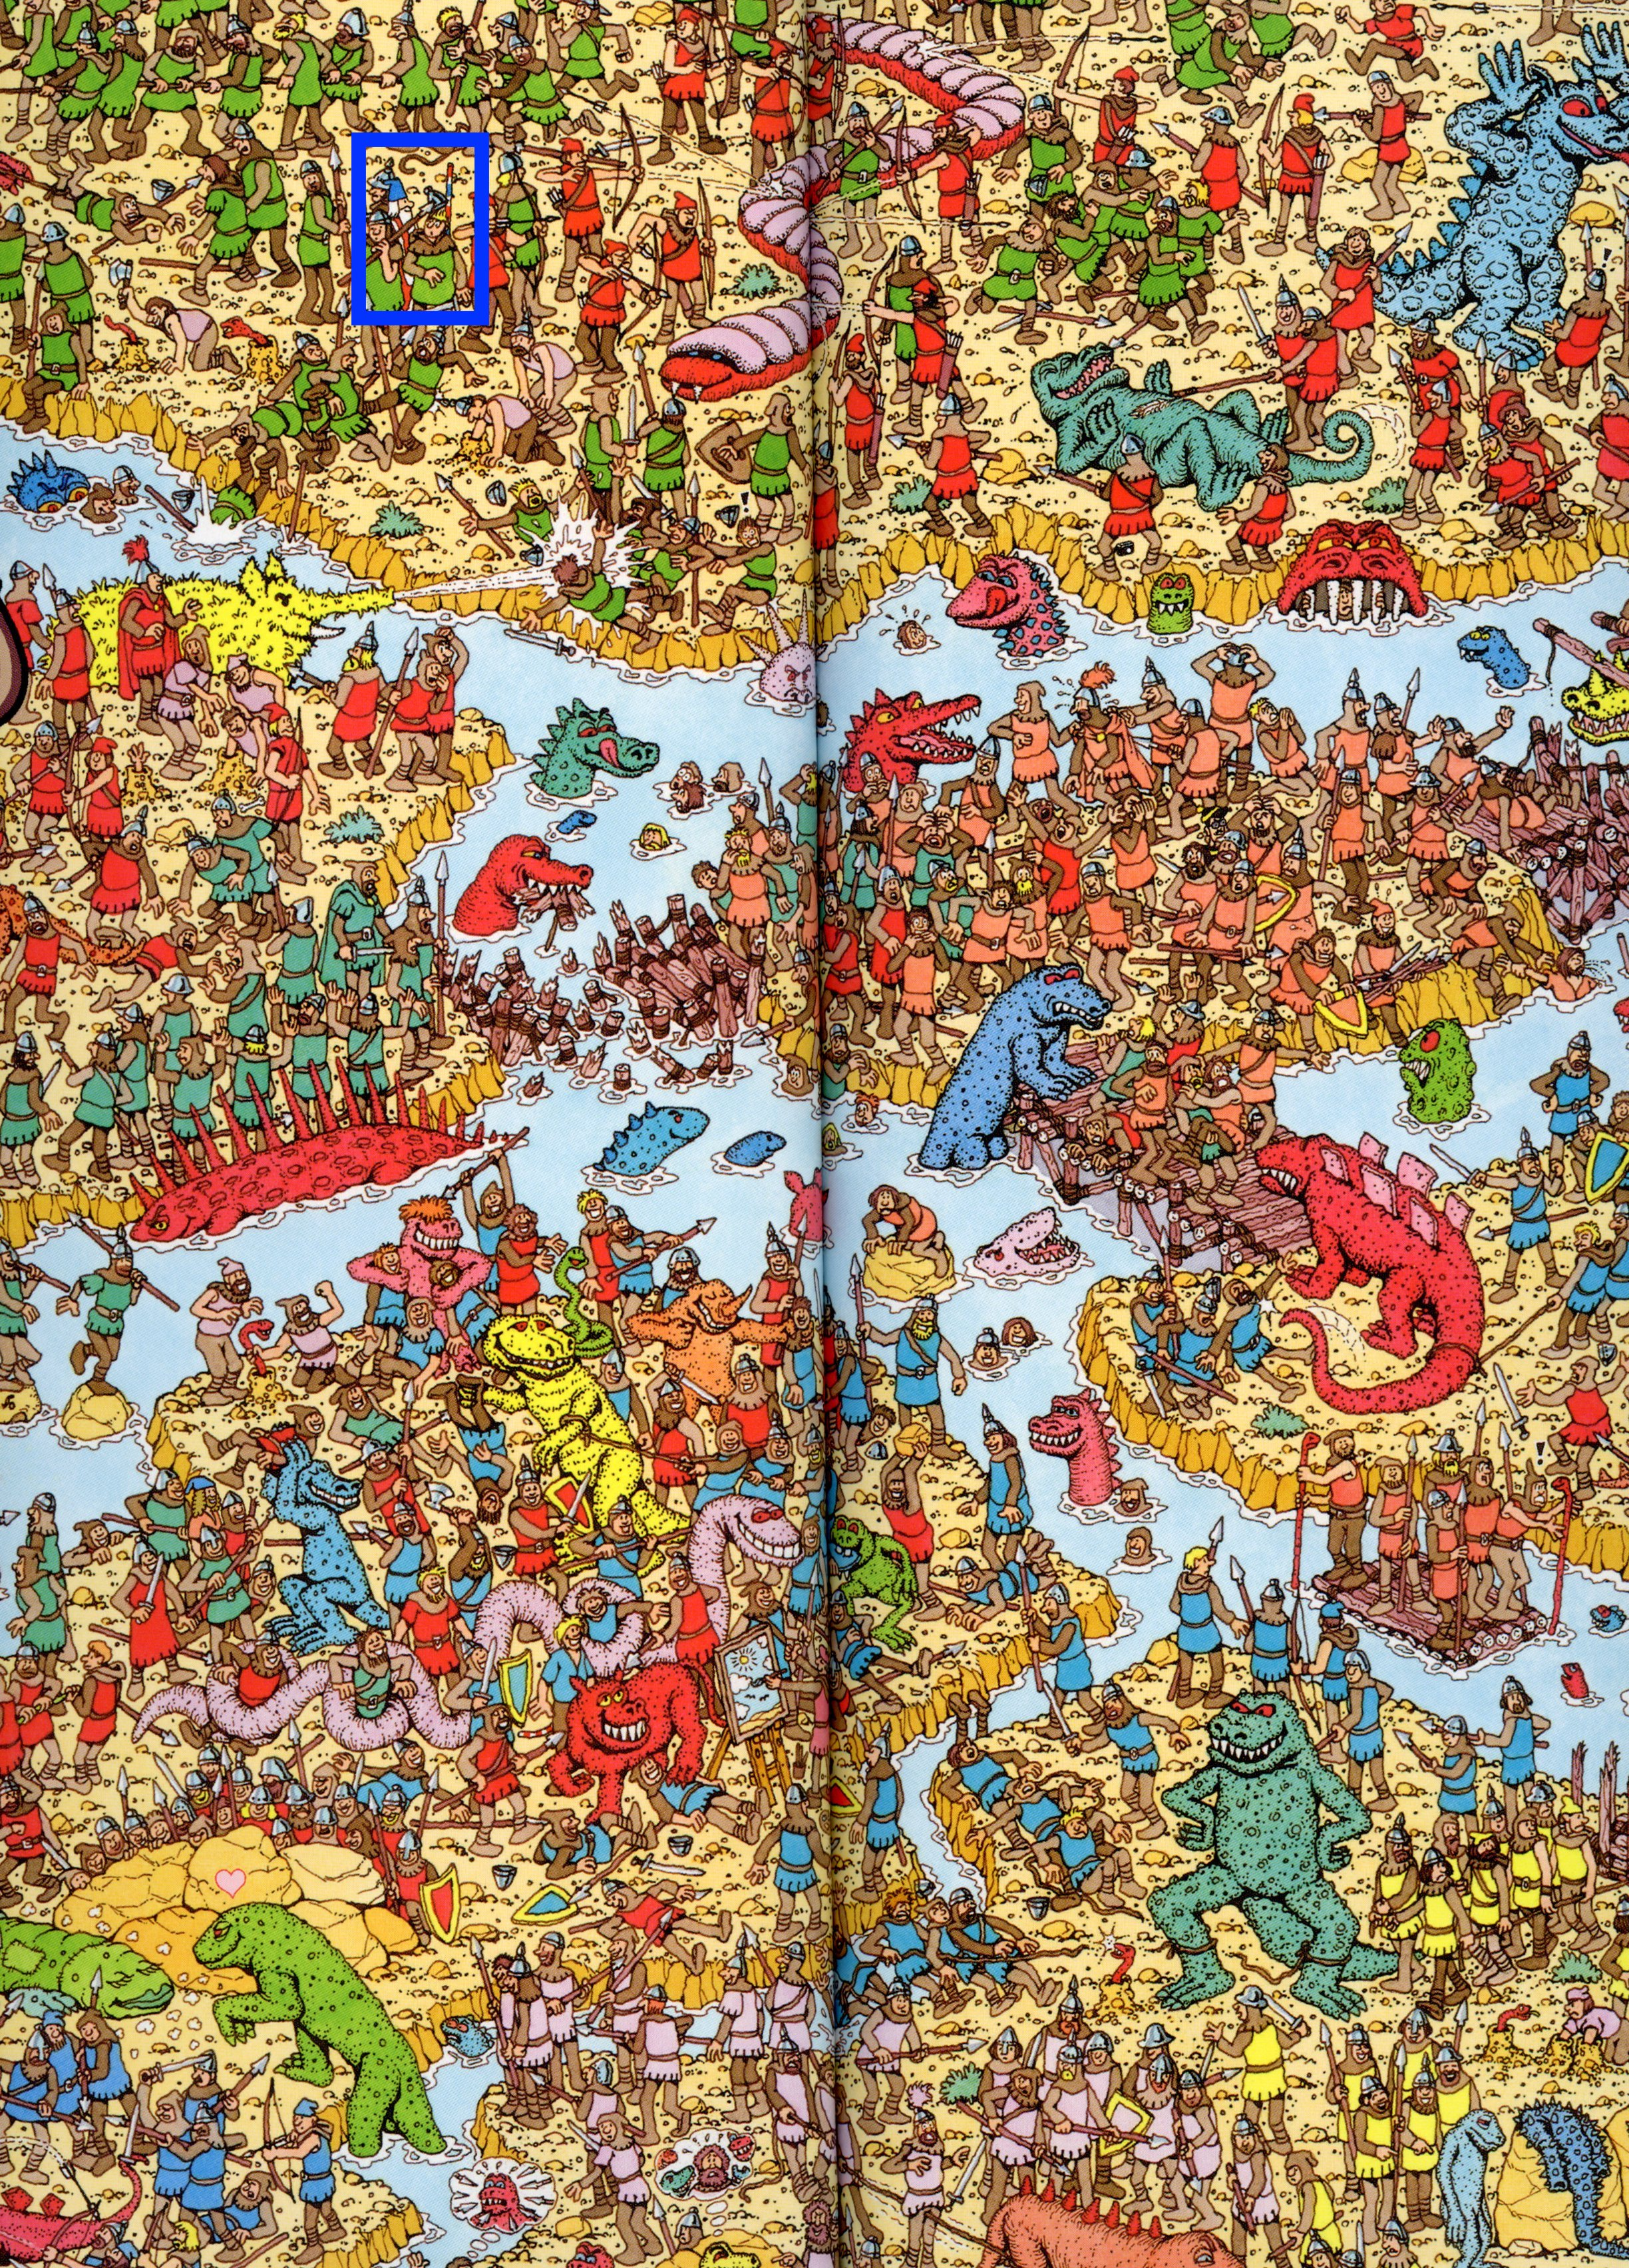white beard: (354, 136, 498, 320)
